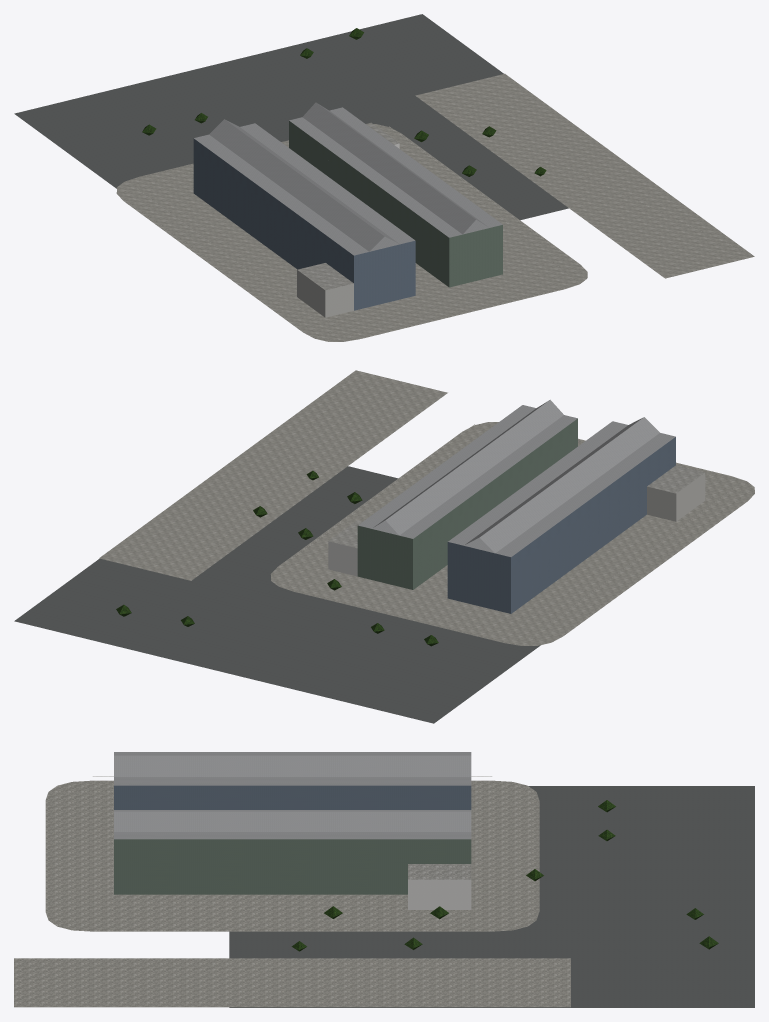
File: cidade_S07_06_lod.gltf
3 views of the same model, one above another, from view 1: azimuth 30°, elevation 25°; view 2: azimuth 150°, elevation 25°; view 3: azimuth 270°, elevation 25° (orthographic). The views are drawn at different scales.
Parts seen in each view (by area): view 1: S07_06_Chao_LOD2, S07_06_Edificios_LOD1, S07_06_Silhueta_LOD2, S07_06_Vegetacao_LOD2; view 2: S07_06_Chao_LOD2, S07_06_Edificios_LOD1, S07_06_Silhueta_LOD2, S07_06_Vegetacao_LOD2; view 3: S07_06_Chao_LOD2, S07_06_Edificios_LOD1, S07_06_Silhueta_LOD2, S07_06_Vegetacao_LOD2.
Boxes of the visible parts, bbox=[...] form: S07_06_Chao_LOD2: bbox=[14, 14, 754, 341]; S07_06_Edificios_LOD1: bbox=[136, 102, 567, 318]; S07_06_Silhueta_LOD2: bbox=[193, 107, 502, 310]; S07_06_Vegetacao_LOD2: bbox=[142, 28, 546, 176]; S07_06_Chao_LOD2: bbox=[14, 370, 754, 723]; S07_06_Edificios_LOD1: bbox=[291, 399, 734, 622]; S07_06_Silhueta_LOD2: bbox=[357, 405, 675, 613]; S07_06_Vegetacao_LOD2: bbox=[116, 470, 438, 646]; S07_06_Chao_LOD2: bbox=[14, 780, 754, 1007]; S07_06_Edificios_LOD1: bbox=[93, 755, 491, 913]; S07_06_Silhueta_LOD2: bbox=[114, 752, 471, 894]; S07_06_Vegetacao_LOD2: bbox=[291, 800, 718, 951].
Bounding box in the file's own units: 102 × 15.8 × 141.
9 materials, 9 textured.
